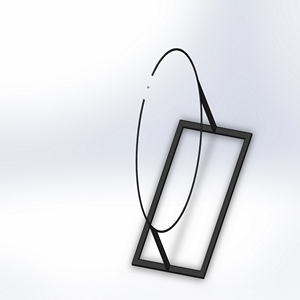circle: (130, 47, 253, 281)
